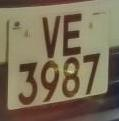3: (14, 55, 42, 110)
7: (80, 52, 104, 97)
8: (59, 54, 84, 101)
9: (36, 60, 64, 105)
E: (57, 9, 87, 56)
V: (38, 9, 63, 60)
